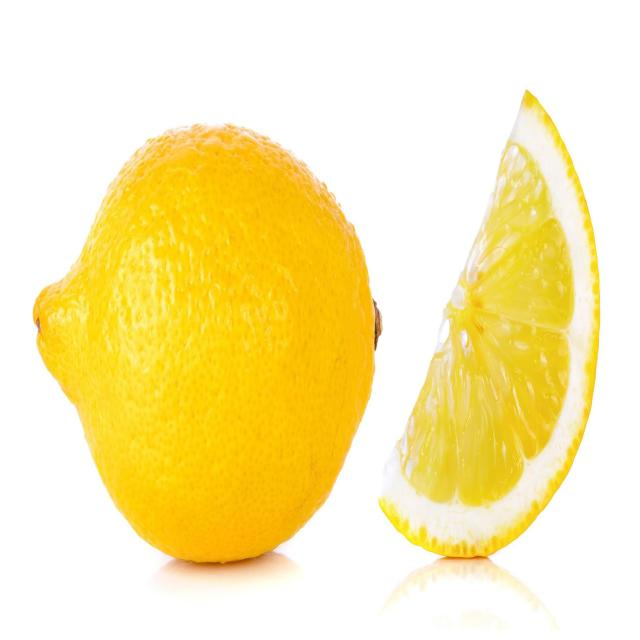lemon: (29, 107, 387, 580)
